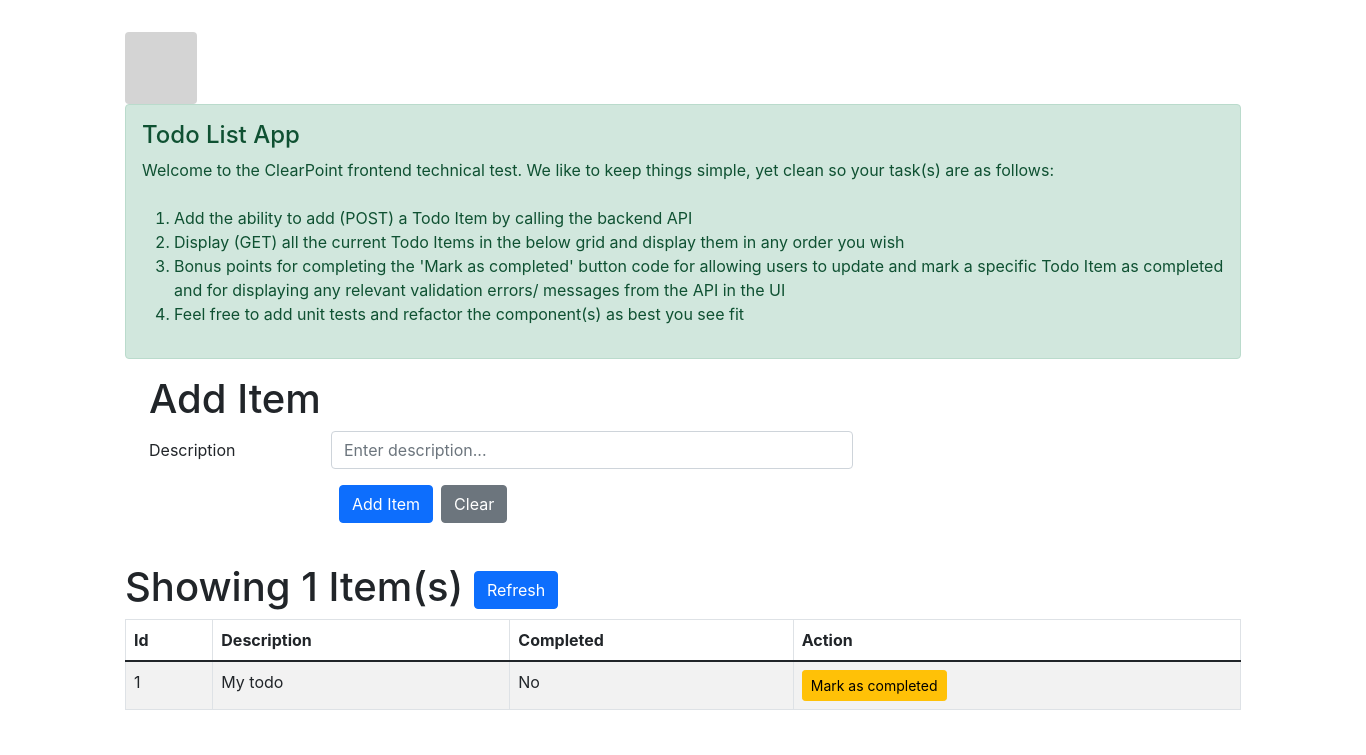
shows error message when "update todo" fails
Click the button "Mark as completed" at coordinates (874, 685), box [802,670,946,701]
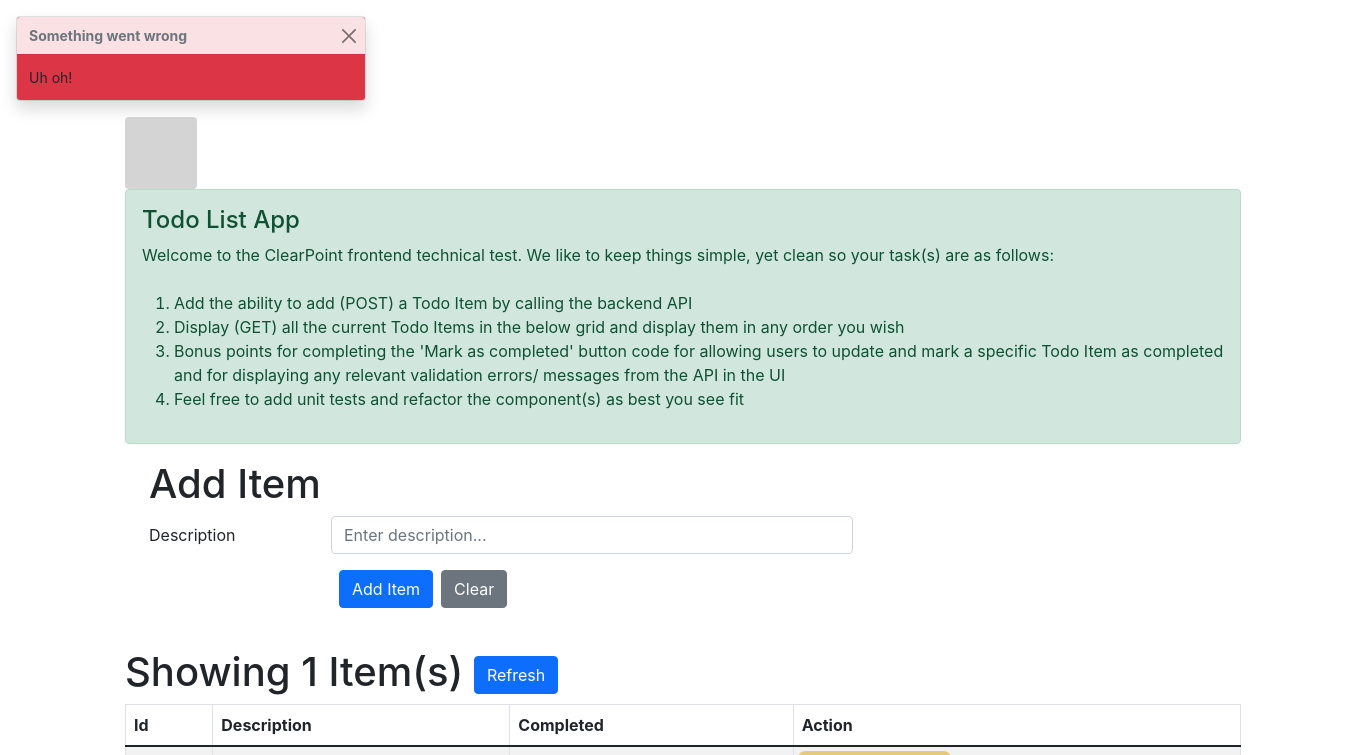
Check: the message "Something went wrong Uh oh!" is shown, box [16,16,366,101]
